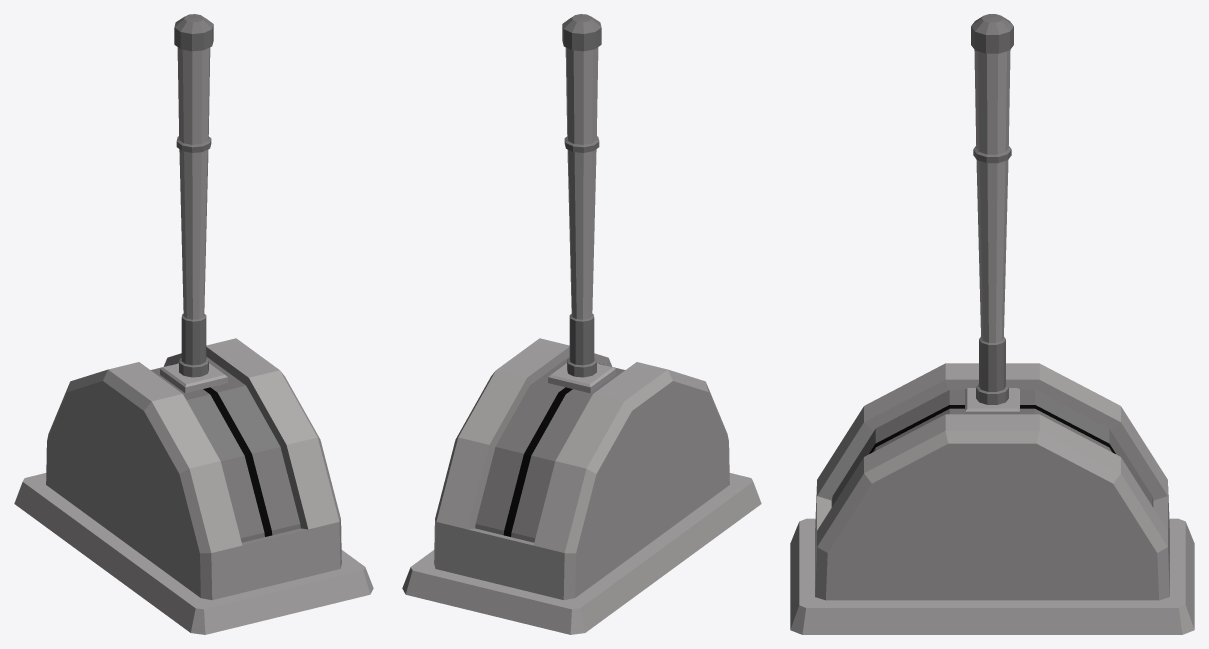
Rendered from MetalFloorLever_3.fbx.
The picture shows the model from 3 angles, left to right: view 1: azimuth 30°, elevation 25°; view 2: azimuth 150°, elevation 25°; view 3: azimuth 270°, elevation 25°; orthographic projection. The views are drawn at different scales.
Parts seen in each view (by area): view 1: MetalFloorLever_3_Casing, MetalFloorLever_3_Handle; view 2: MetalFloorLever_3_Casing, MetalFloorLever_3_Handle; view 3: MetalFloorLever_3_Casing, MetalFloorLever_3_Handle.
Boxes of the visible parts, x1,y1,x2,y2 form: MetalFloorLever_3_Casing: (14, 338, 373, 634); MetalFloorLever_3_Handle: (160, 14, 227, 393); MetalFloorLever_3_Casing: (402, 338, 761, 634); MetalFloorLever_3_Handle: (548, 14, 615, 393); MetalFloorLever_3_Casing: (790, 363, 1194, 634); MetalFloorLever_3_Handle: (965, 14, 1019, 414).
Bounding box in the file's own units: 30.23 × 83.4 × 53.71.
